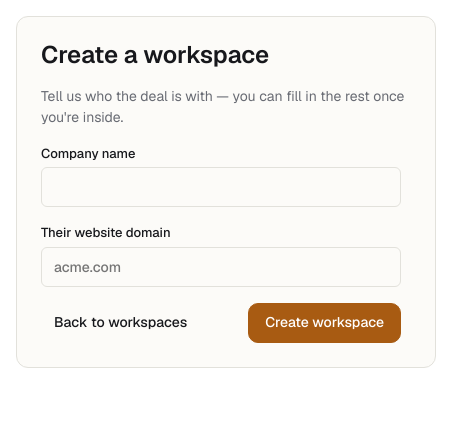
Test: NewWorkspaceForm — validation error › marks the domain field invalid on a domain error, and leaves the form resubmittable
Type "Acme Inc" into the field labelled "Company name".
click(221, 187); type("Acme Inc")  # box left=41, top=167, right=401, bottom=207
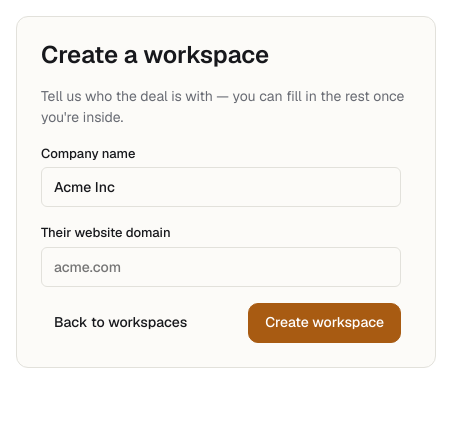
Type "not a domain" into the field labelled "Their website domain".
click(221, 267); type("not a domain")  # box left=41, top=247, right=401, bottom=287
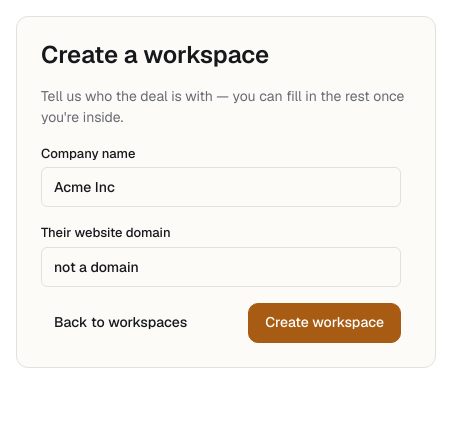
Click the button "Create workspace".
click(325, 323)  # box left=248, top=303, right=401, bottom=343
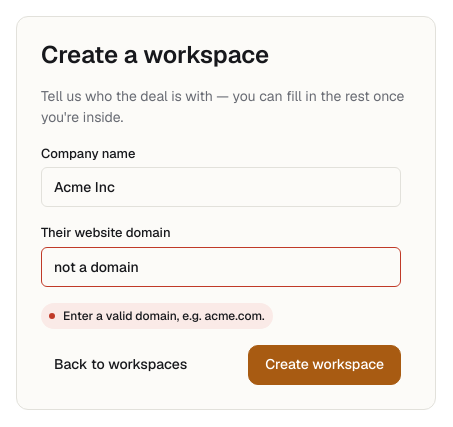
Expected: the button "Create workspace" is enabled, left=248, top=345, right=401, bottom=385
Result: the message reads "Enter a valid domain, e.g. acme.com." at left=63, top=308, right=265, bottom=324
